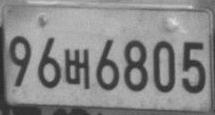0: (152, 39, 175, 93)
5: (181, 41, 207, 94)
6: (36, 36, 61, 89), (94, 39, 119, 90)
8: (122, 38, 149, 92)
9: (8, 34, 32, 87)
버: (64, 47, 90, 89)
